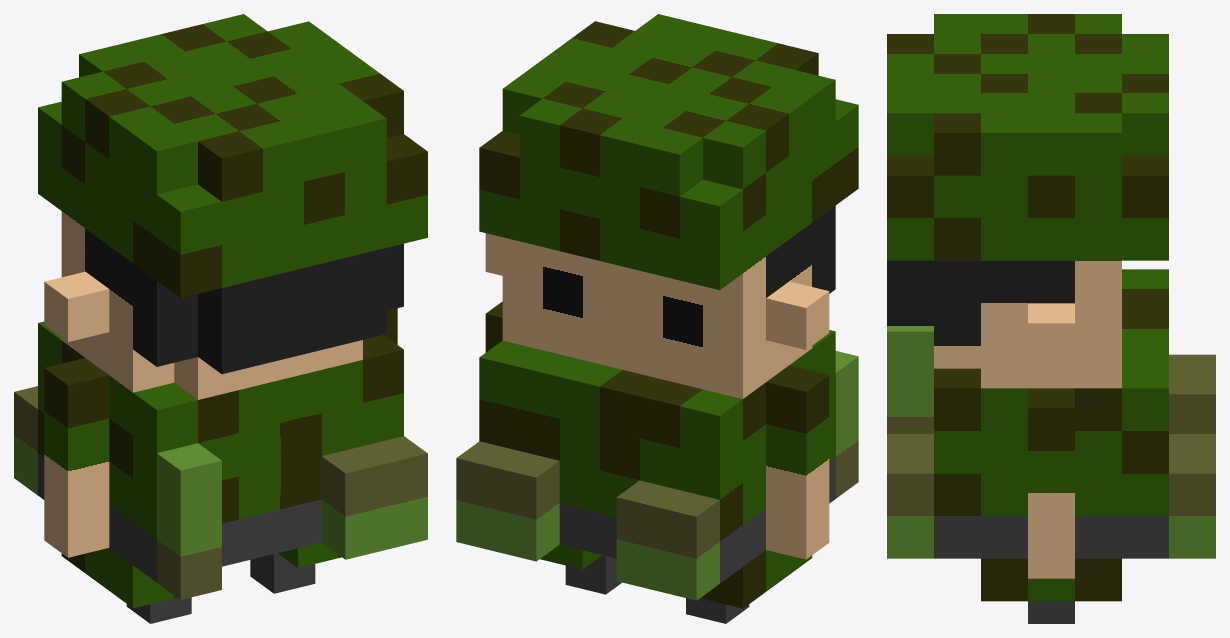
File: chr_army1b.dae
3 views of the same model, side by side, from view 1: azimuth 30°, elevation 25°; view 2: azimuth 150°, elevation 25°; view 3: azimuth 270°, elevation 25° (orthographic). The views are drawn at different scales.
Visible parts, largest first — view 1: chr_army1b; view 2: chr_army1b; view 3: chr_army1b.
Boxes of the visible parts, box(x1,y1,x2,y2) form: chr_army1b: box(14, 14, 427, 623); chr_army1b: box(456, 14, 858, 623); chr_army1b: box(887, 14, 1215, 623).
Size of the model in its own units: 0.8 by 0.7 by 1.2.
Materials: 1 (1 with a texture image).
